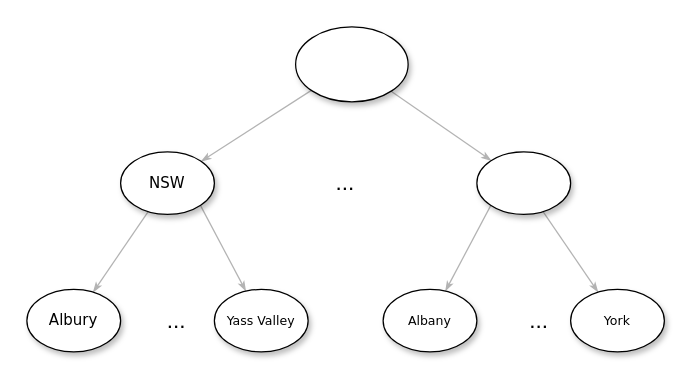
Image size: 694x383. Some labels were removed from this diagram. Each missing label, with the centre of its shape:
All: (x=352, y=66)
WA: (x=524, y=184)
